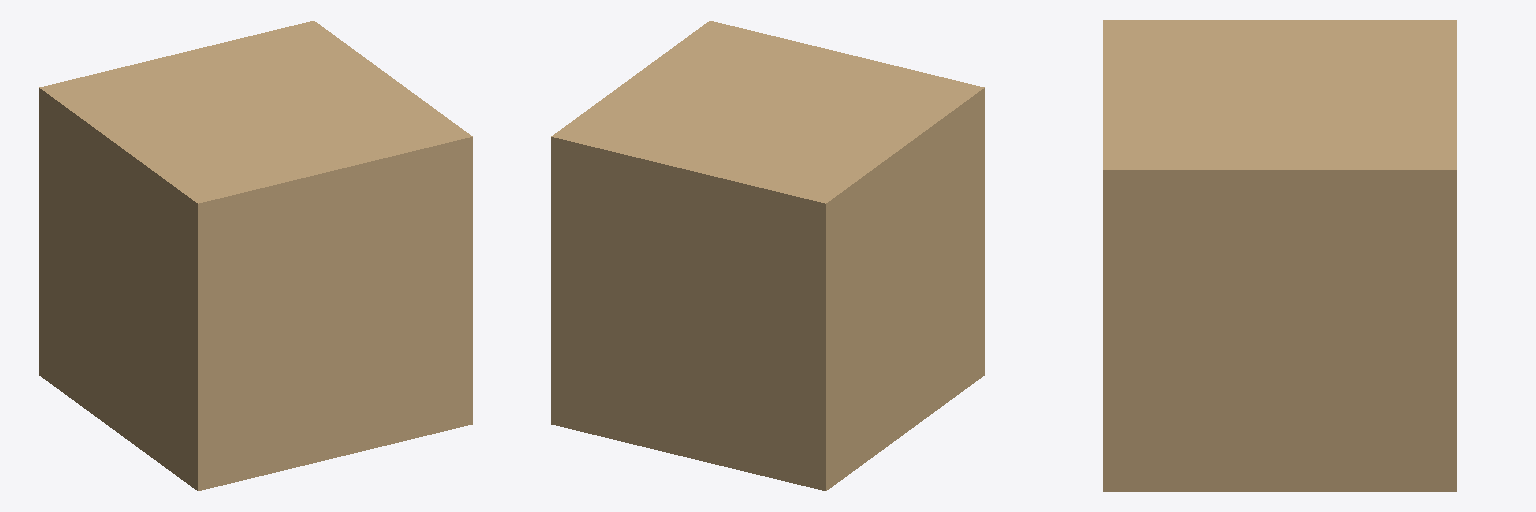
The robot description file, URDF, robot "block":
<?xml version="1.0" ?>
<robot name="block">
  <link name="base_link">
    <visual>
      <geometry>
        <box size="1.0 1.0 1.0"/> <!-- Dimensions: 0.5x0.5x0.2 -->
      </geometry>
      <material name="brown">
        <color rgba="0.82 0.71 0.55 1.0"/> <!-- Brown color -->
      </material>
    </visual>
    <collision>
      <geometry>
        <box size="0.5 0.5 0.2"/>
      </geometry>
    </collision>
    <inertial>
      <mass value="0.0"/>
      <inertia ixx="0.01" ixy="0.0" ixz="0.0" iyy="0.0" iyz="0.0" izz="0.0"/>
    </inertial>
  </link>
</robot>

--- What the picture shows (computed from the rendered views, not written in the file) ---
The picture shows the robot from 3 angles, left to right: view 1: azimuth 30°, elevation 25°; view 2: azimuth 150°, elevation 25°; view 3: azimuth 270°, elevation 25°; orthographic projection.
Robot: block — 1 links, 0 joints (none); root link base_link; default pose: all joints at 0.
Links seen in each view (by area): view 1: base_link; view 2: base_link; view 3: base_link.
Link boxes in pixels (x1,y1,x2,y2): base_link: [39, 21, 472, 490]; base_link: [551, 21, 984, 490]; base_link: [1103, 20, 1456, 491].
Size in the robot's own frame: 1 by 1 by 1 metres.
Geometry: primitives only (box / cylinder / sphere), no mesh files.